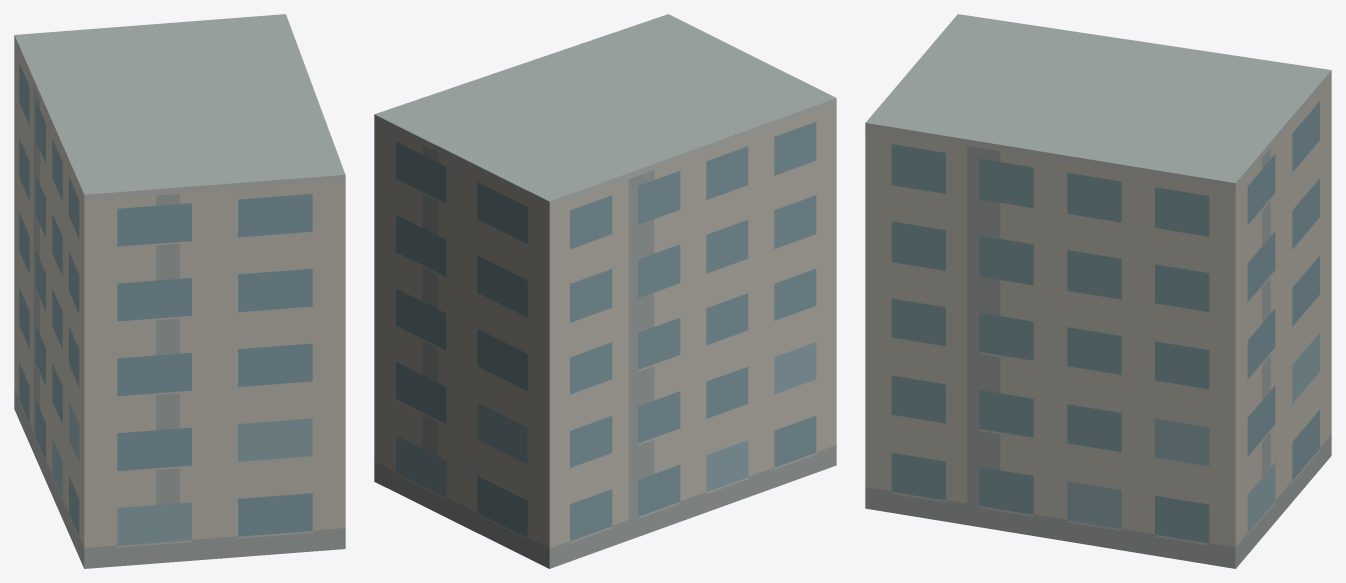
The model's file is survey-upis-32893661.glb.
The picture shows the model from 3 angles, left to right: view 1: azimuth 30°, elevation 25°; view 2: azimuth 150°, elevation 25°; view 3: azimuth 270°, elevation 25°; orthographic projection. The views are drawn at different scales.
Visible parts, largest first — view 1: survey-upis-32893661.tmp; view 2: survey-upis-32893661.tmp; view 3: survey-upis-32893661.tmp.
Boxes of the visible parts, x1,y1,x2,y2 form: survey-upis-32893661.tmp: (14, 14, 345, 568); survey-upis-32893661.tmp: (374, 14, 836, 568); survey-upis-32893661.tmp: (865, 14, 1331, 568).
Size of the model in its own units: 13.65 by 14.5 by 15.89.
